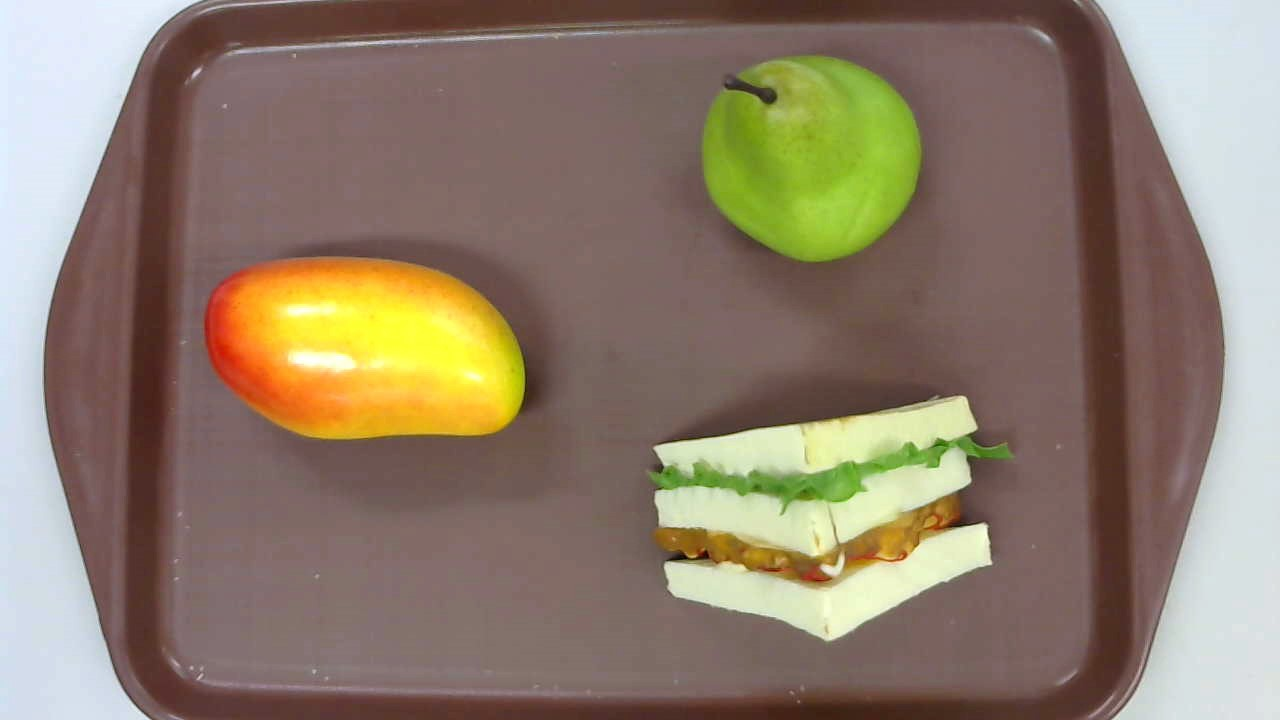green pear: (701, 53, 921, 263)
red mango: (204, 257, 524, 440)
sandwich: (647, 396, 1013, 644)
